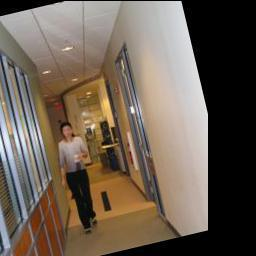Puerta: (109, 43, 168, 221)
